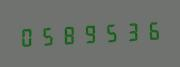eight: (59, 21, 79, 47)
five: (38, 22, 58, 48), (101, 19, 121, 45)
nine: (80, 20, 100, 46)
six: (143, 17, 163, 43)
three: (122, 18, 142, 44)
zero: (17, 23, 37, 49)
